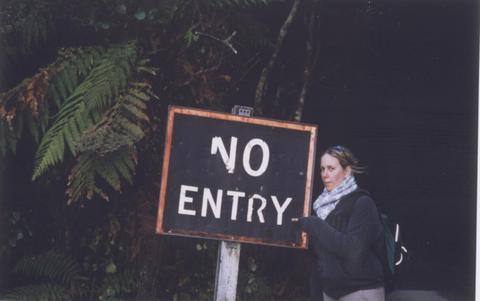without_mask: (320, 152, 355, 193)
